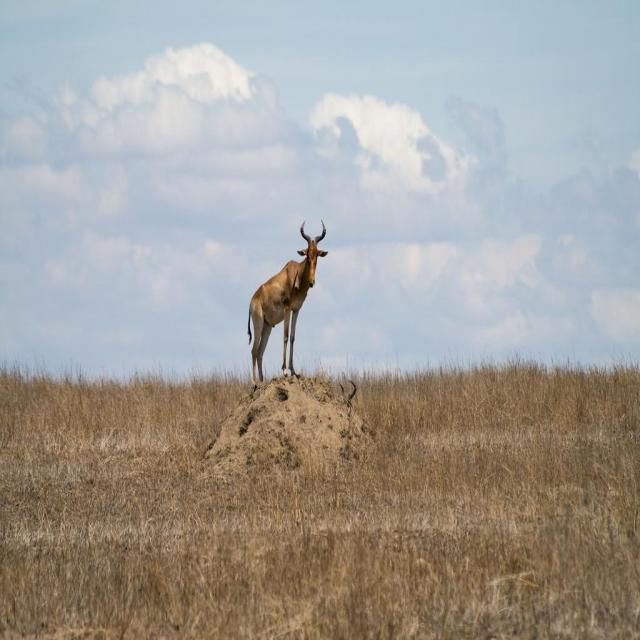Deer: (248, 223, 329, 393)
